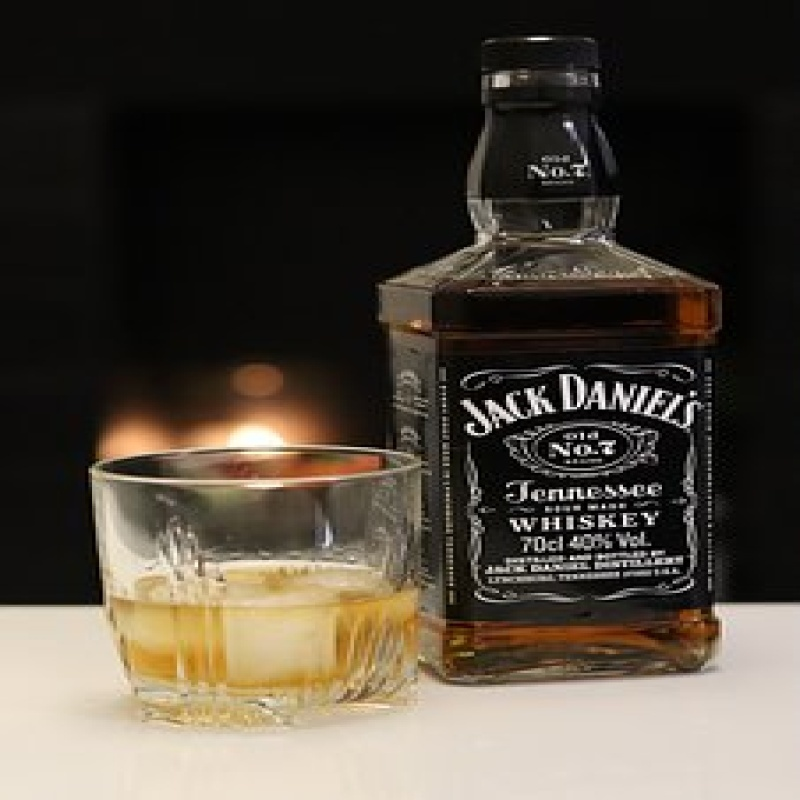whiskey: (83, 448, 438, 715)
